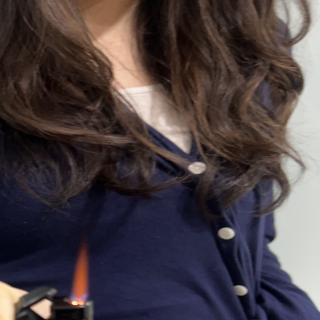fire: (74, 246, 92, 302)
